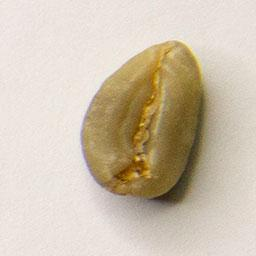longberry: (78, 37, 206, 202)
